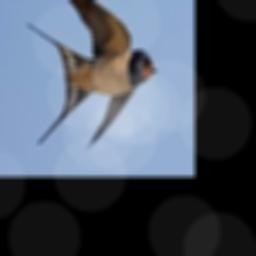Swallow: (27, 0, 157, 148)
